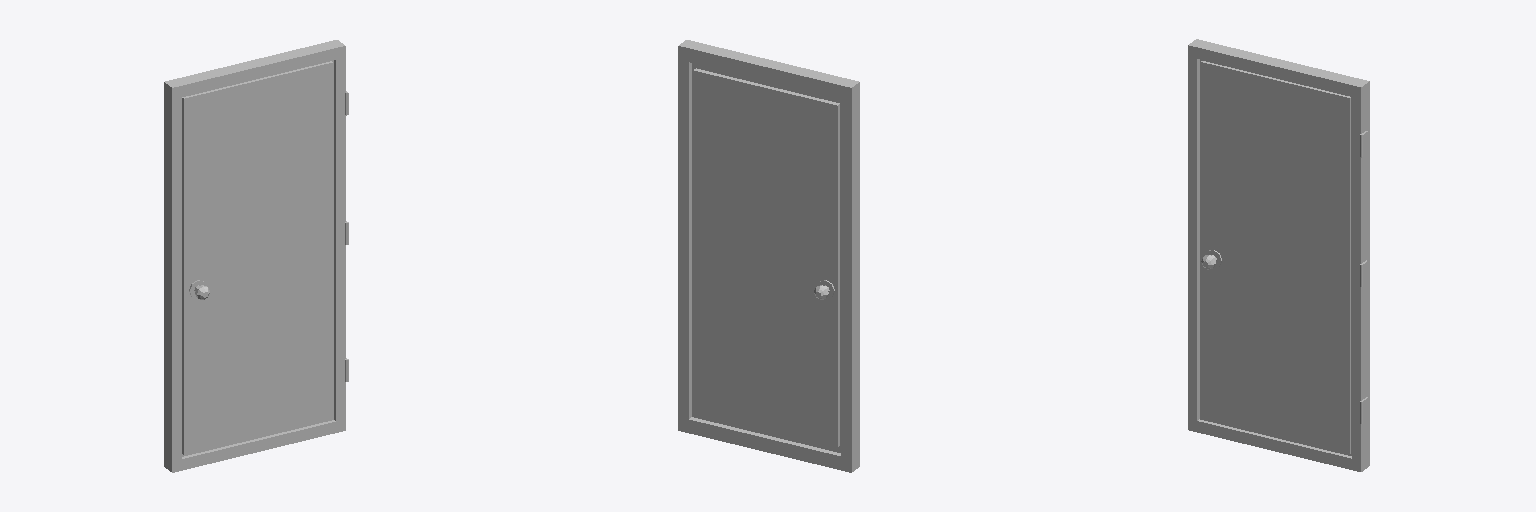
Rendered from Door.obj.
3 renders of one model, left to right at view 1: azimuth 30°, elevation 25°; view 2: azimuth 150°, elevation 25°; view 3: azimuth 330°, elevation 25°, orthographic.
Visible parts, largest first — view 1: polySurface17; view 2: polySurface17; view 3: polySurface17.
Boxes of the visible parts, x1=… form: polySurface17: x1=164, y1=40, x2=348, y2=472; polySurface17: x1=678, y1=40, x2=859, y2=472; polySurface17: x1=1188, y1=39, x2=1369, y2=471.
Bounding box in the file's own units: 7.85 × 16.45 × 1.85.